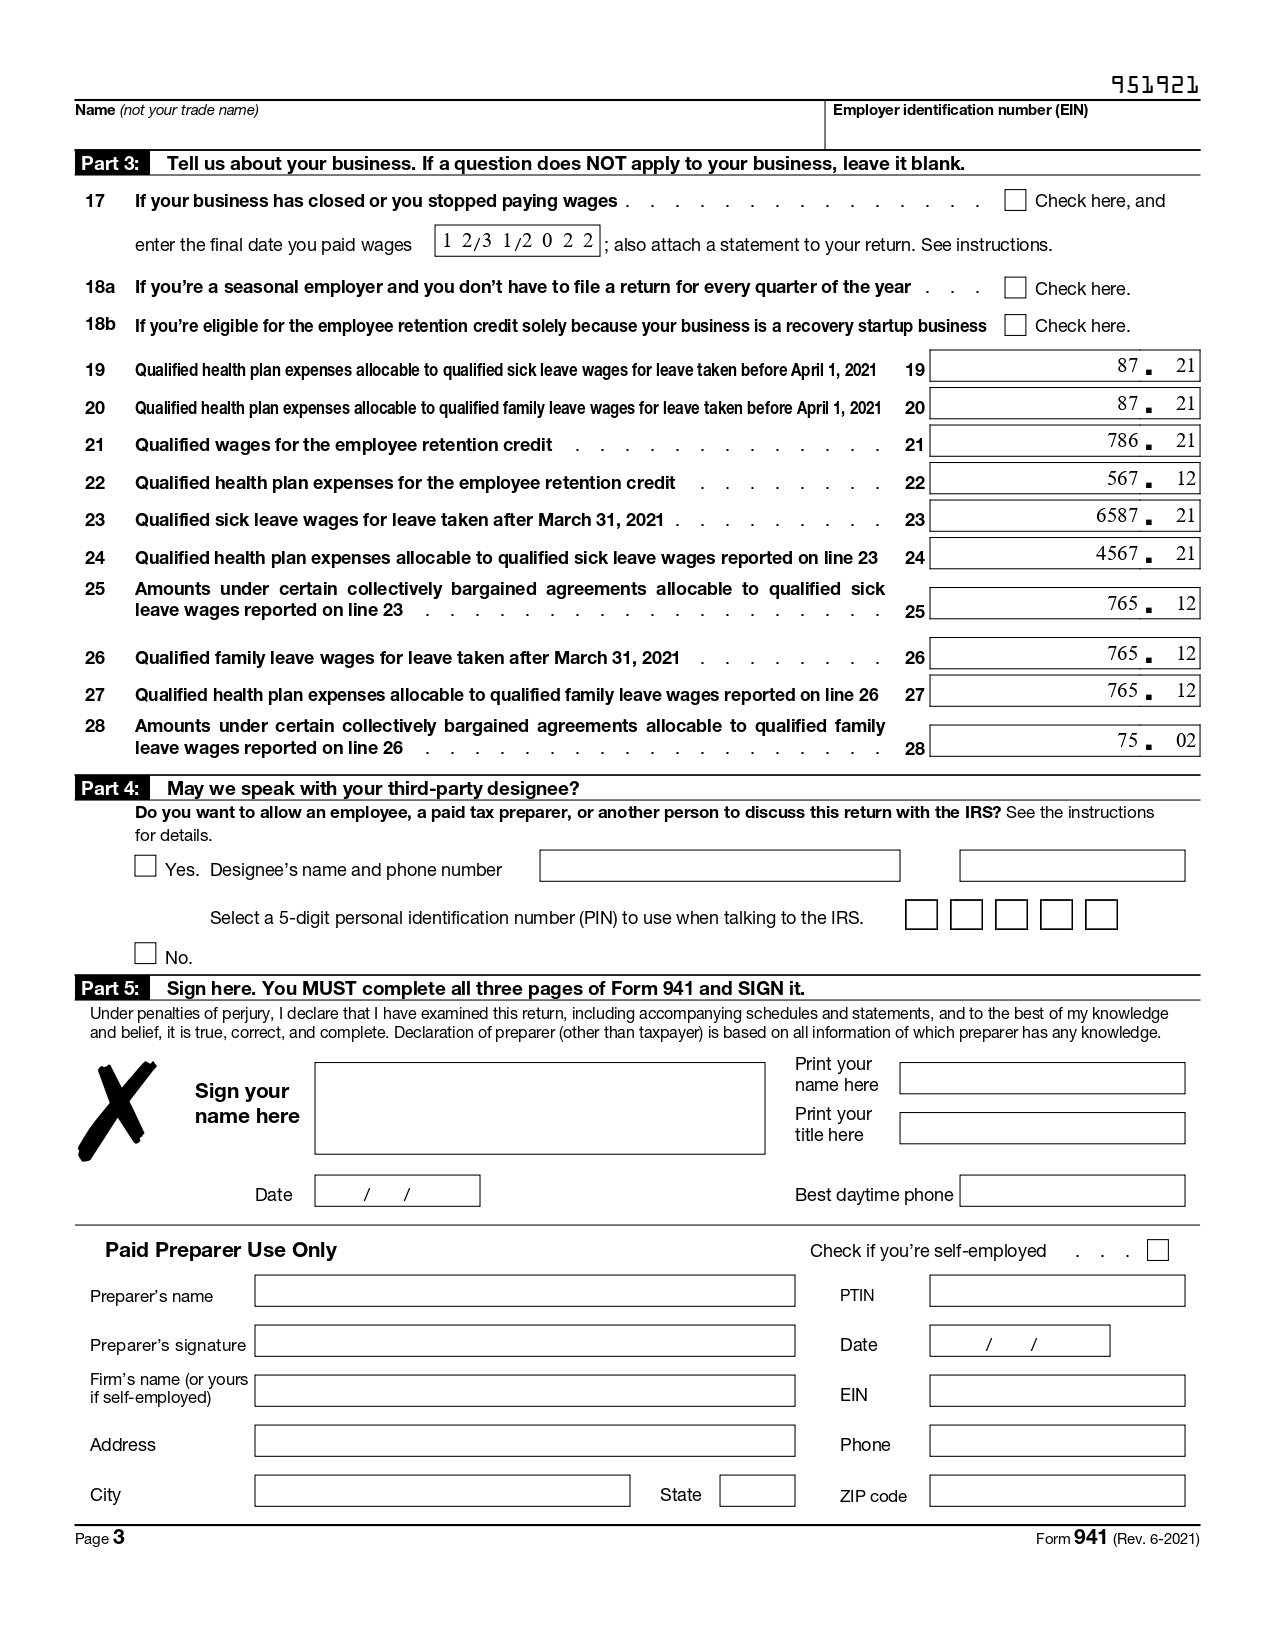form: (74, 1049, 1220, 1517), (88, 805, 1229, 966)
table: (71, 178, 1247, 767)
